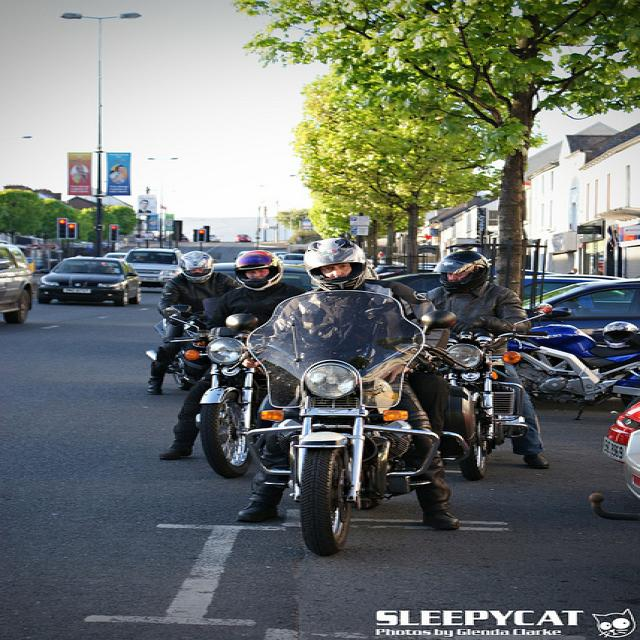motor: (244, 288, 447, 561), (423, 300, 586, 477), (160, 305, 271, 481), (515, 324, 640, 420), (139, 338, 193, 385)
